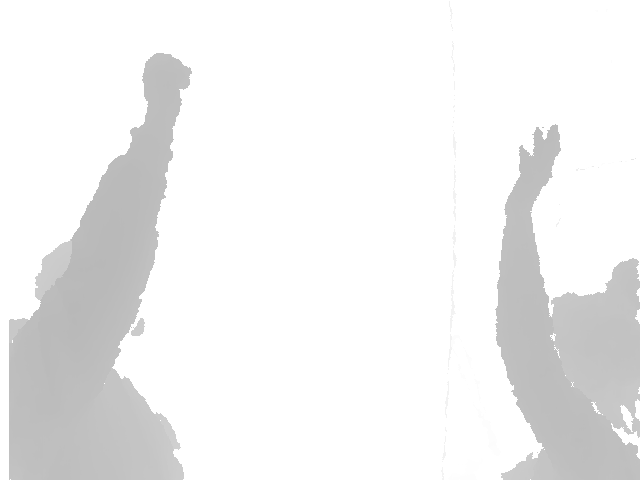hand: (517, 123, 561, 198), (140, 52, 191, 113)
head: (35, 230, 147, 338), (552, 287, 640, 422)
person: (10, 52, 191, 480), (494, 123, 640, 480)
